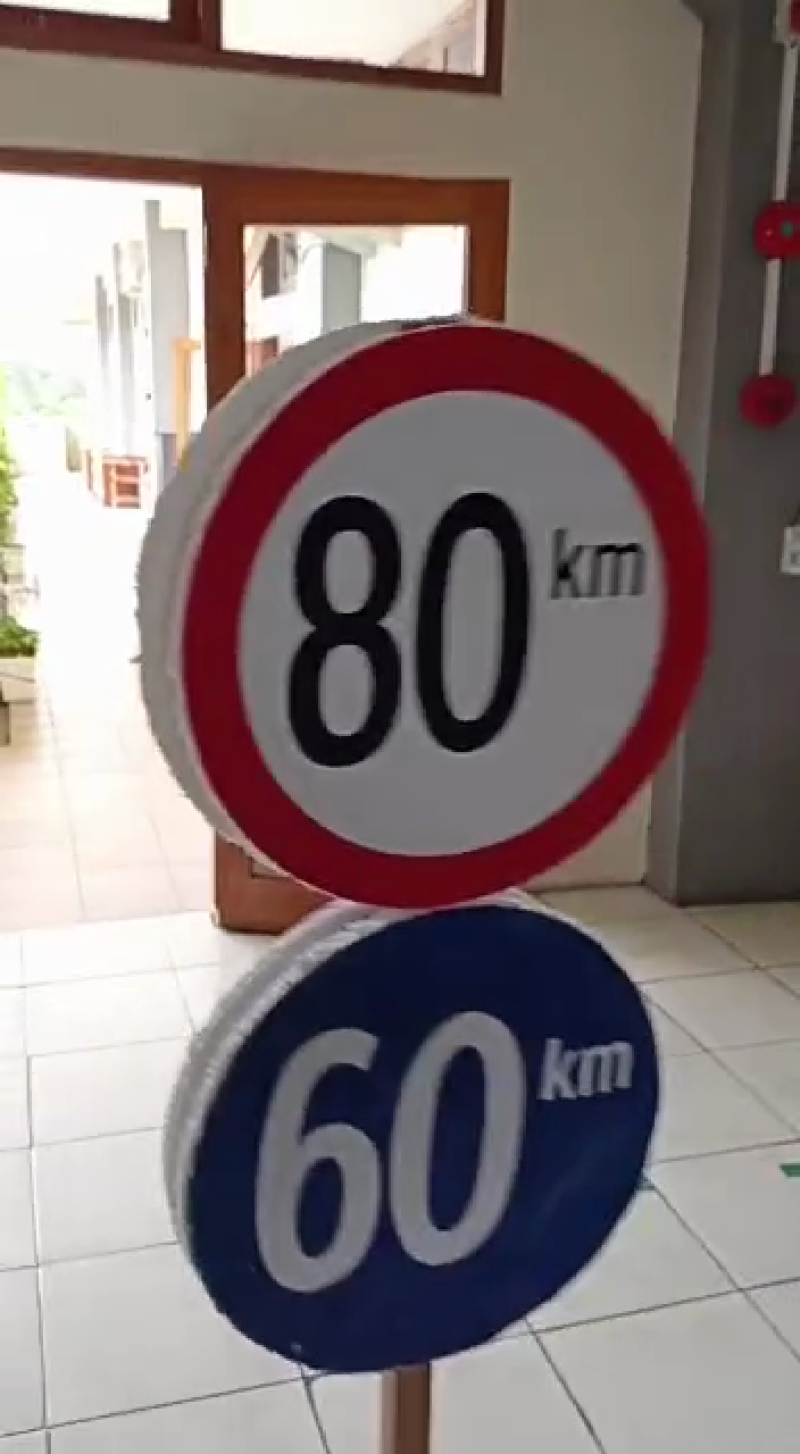batas maksimal 80kmperjam minimal 60kmperjam: (162, 334, 695, 1370)
